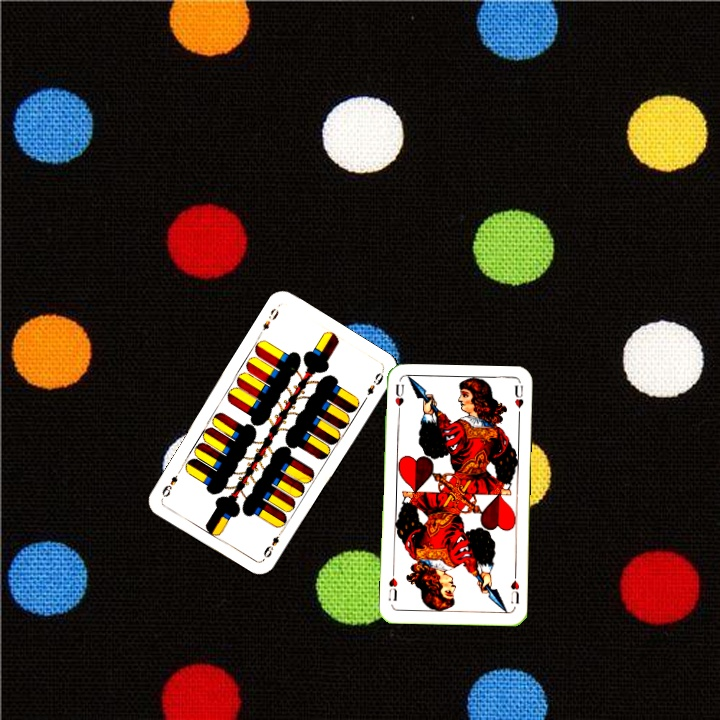E9: (259, 526, 286, 560), (255, 304, 281, 338)
HU: (391, 380, 406, 419), (507, 569, 522, 606)
